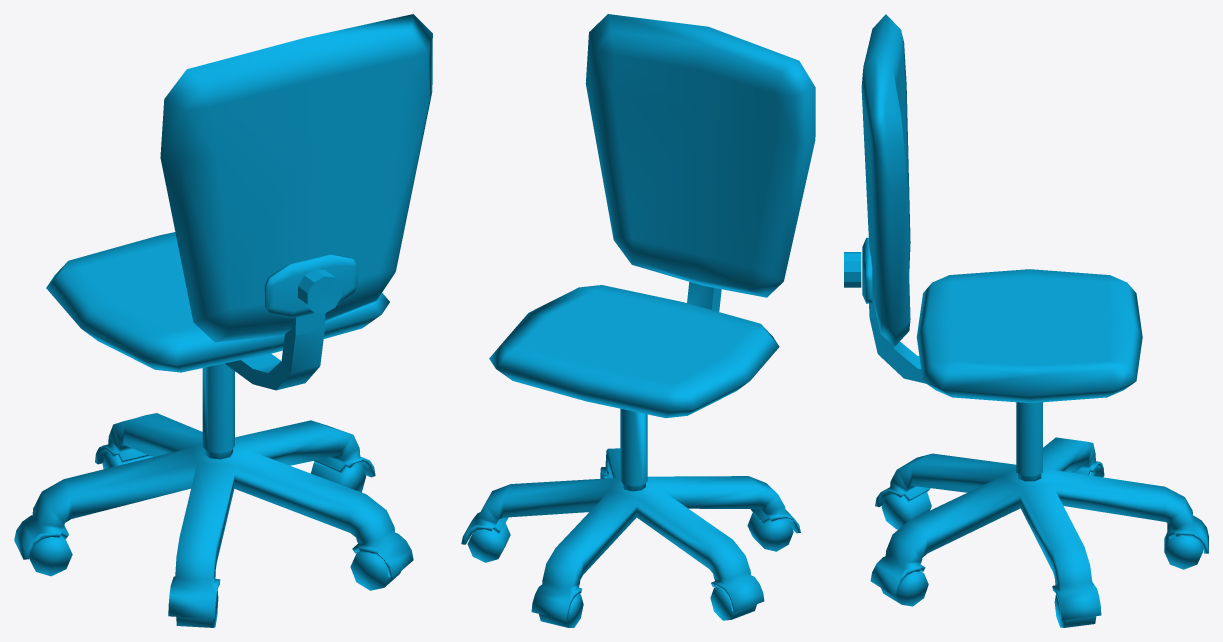
Rendered from Chair_03_Lod1.fbx.
3 renders of one model, left to right at view 1: azimuth 30°, elevation 25°; view 2: azimuth 150°, elevation 25°; view 3: azimuth 270°, elevation 25°, orthographic. The views are drawn at different scales.
Visible parts, largest first — view 1: Chair_03_Lod1; view 2: Chair_03_Lod1; view 3: Chair_03_Lod1.
Boxes of the visible parts, <box> form: Chair_03_Lod1: <box>14,14,432,627</box>; Chair_03_Lod1: <box>461,14,815,627</box>; Chair_03_Lod1: <box>844,14,1208,627</box>.
Size of the model in its own units: 64.22 by 102 by 66.11.
